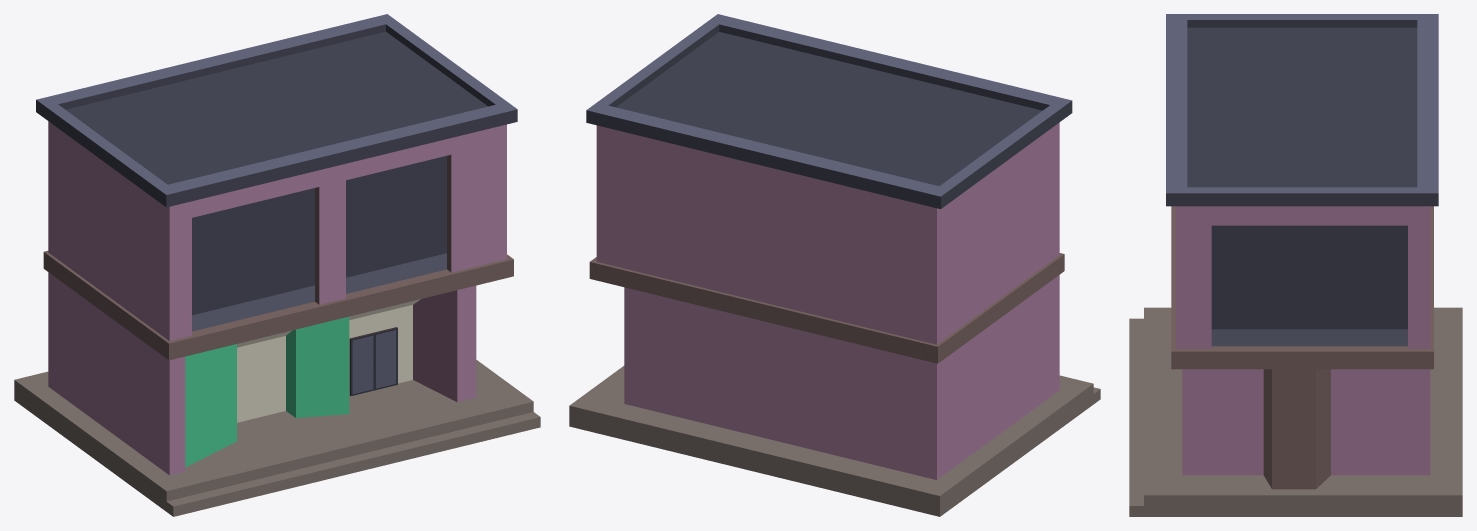
Rendered from house08_color02.fbx.
3 renders of one model, left to right at view 1: azimuth 30°, elevation 25°; view 2: azimuth 150°, elevation 25°; view 3: azimuth 270°, elevation 25°, orthographic. The views are drawn at different scales.
Parts seen in each view (by area): view 1: house08_color02; view 2: house08_color02; view 3: house08_color02.
Part boxes in pixels (x1=…): house08_color02: x1=14, y1=14, x2=540, y2=516; house08_color02: x1=569, y1=14, x2=1100, y2=516; house08_color02: x1=1129, y1=14, x2=1462, y2=516.
Bounding box in the file's own units: 1448 × 1155 × 1087.
